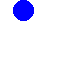circle: (13, 0, 33, 20)
